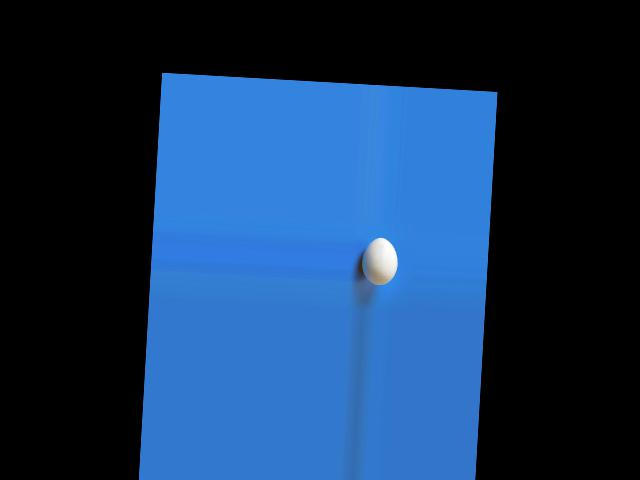egg: (360, 236, 398, 286)
